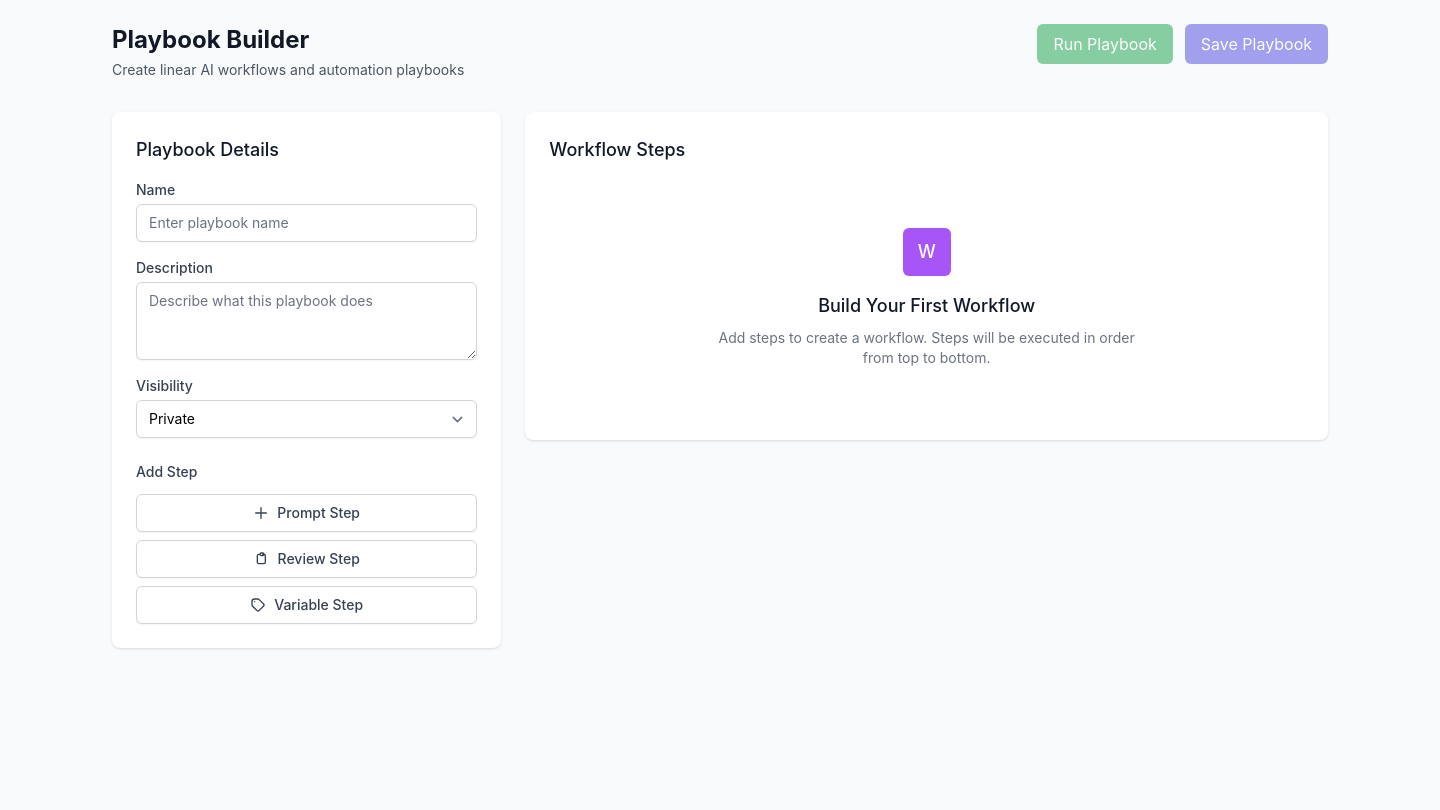
PlaybookBuilder › should remove steps
This screenshot has width=1440, height=810.
Note: Add a step first
Click the button "Prompt Step" at (307, 513), box [136,494,477,532]
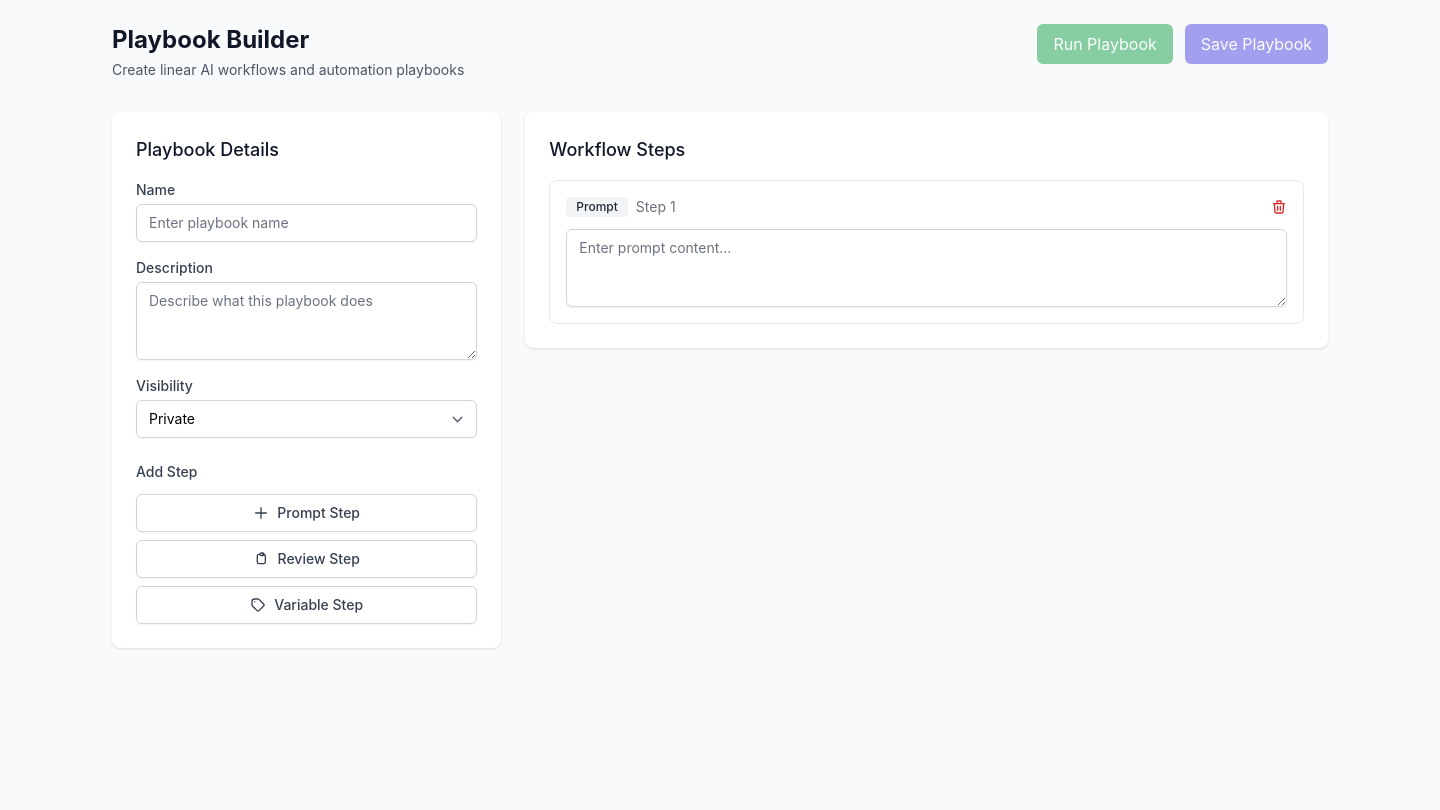
Result: the text "Step 1" is shown at [636,197,676,217]
Click the 3rd button at (1279, 207), box [1271,199,1287,215]
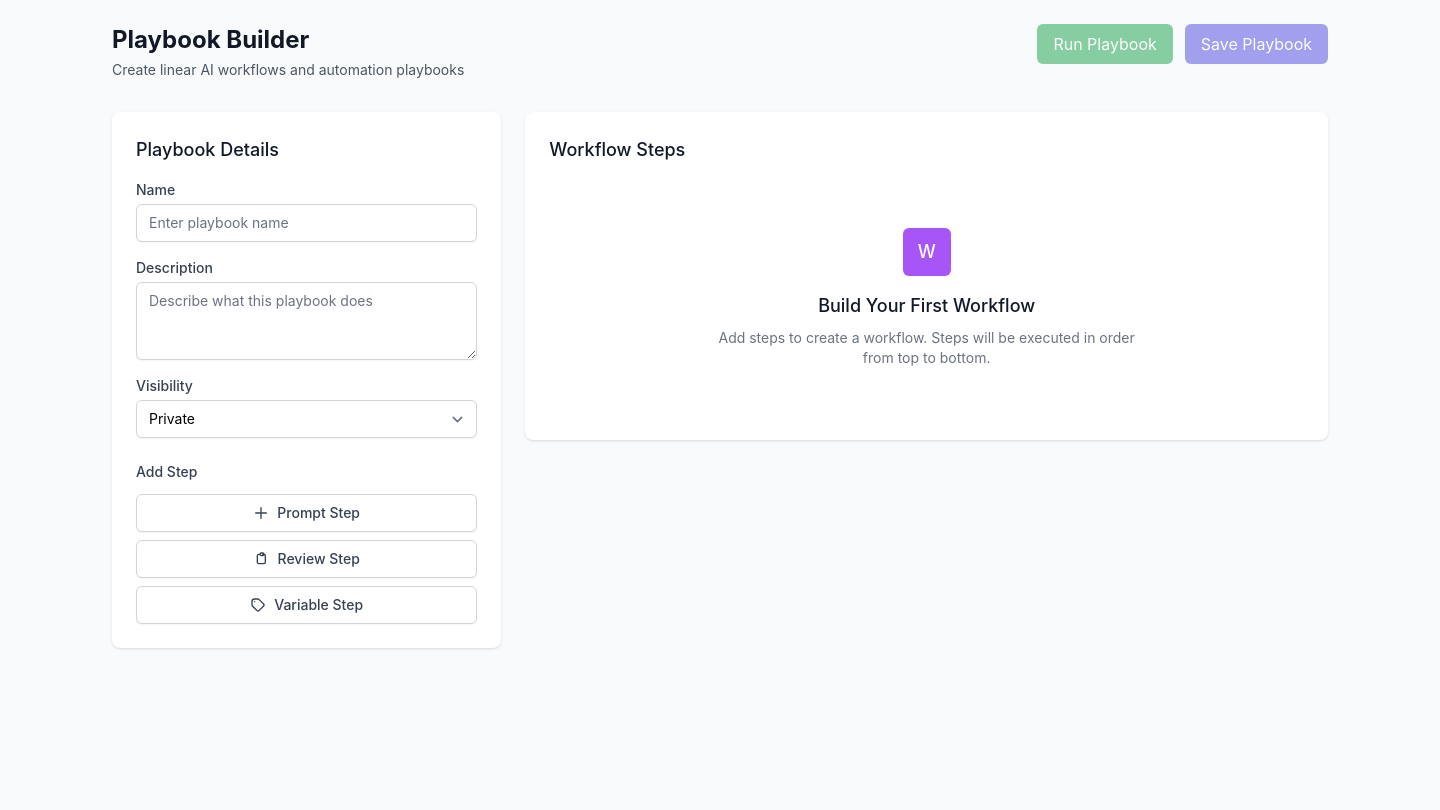
Result: the heading "Build Your First Workflow" is shown at [818,295,1035,316]
